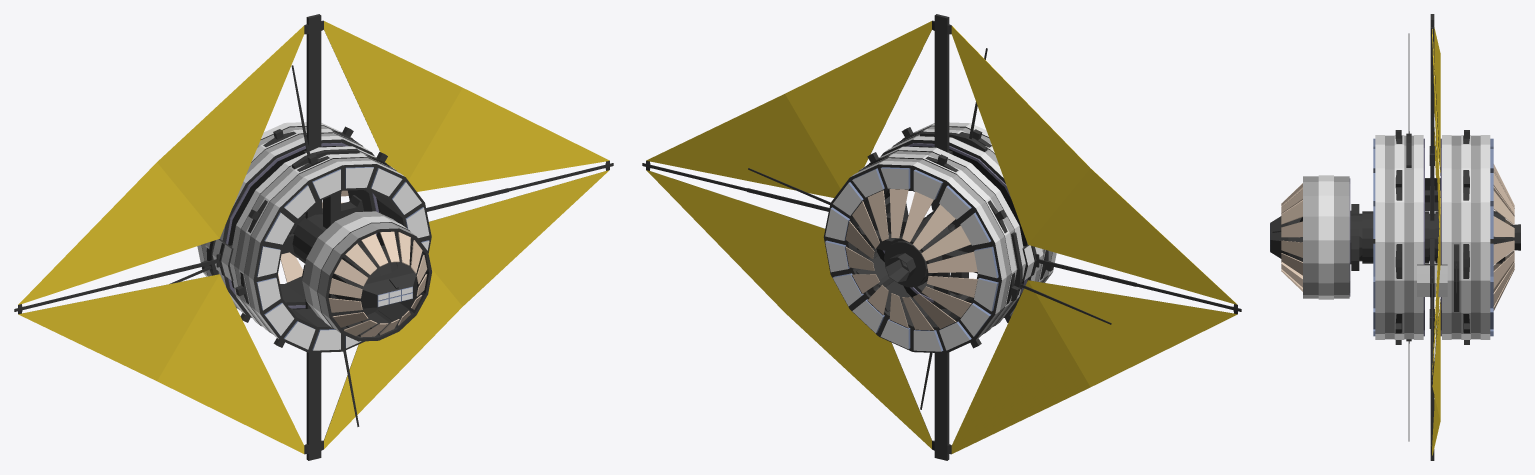
The model's file is Station.fbx.
3 renders of one model, left to right at view 1: azimuth 30°, elevation 25°; view 2: azimuth 150°, elevation 25°; view 3: azimuth 270°, elevation 25°, orthographic.
Parts seen in each view (by area): view 1: Greek Fire; view 2: Greek Fire; view 3: Greek Fire.
Part boxes in pixels (bbox=[...]): Greek Fire: bbox=[14, 14, 613, 460]; Greek Fire: bbox=[642, 14, 1241, 460]; Greek Fire: bbox=[1270, 14, 1520, 460].
Bounding box in the file's own units: 23407 × 16531 × 8520.
